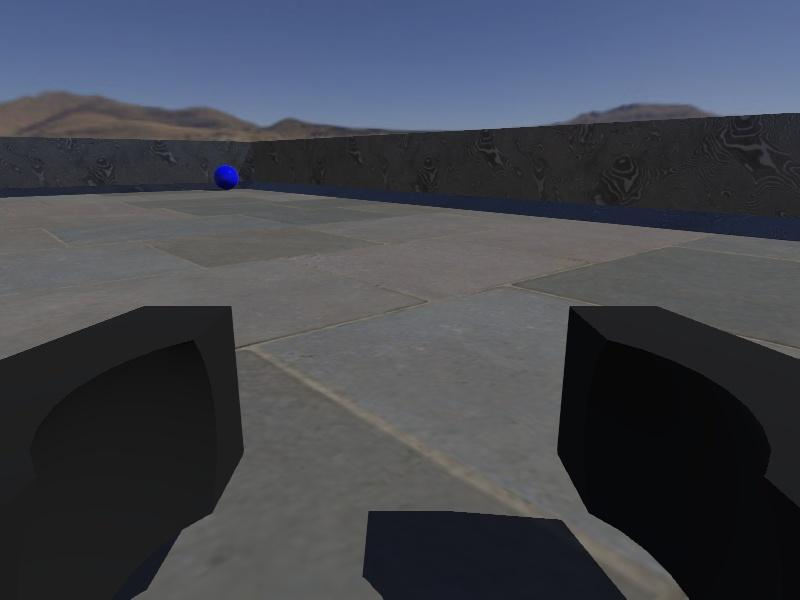blue ball: (213, 162, 240, 189)
